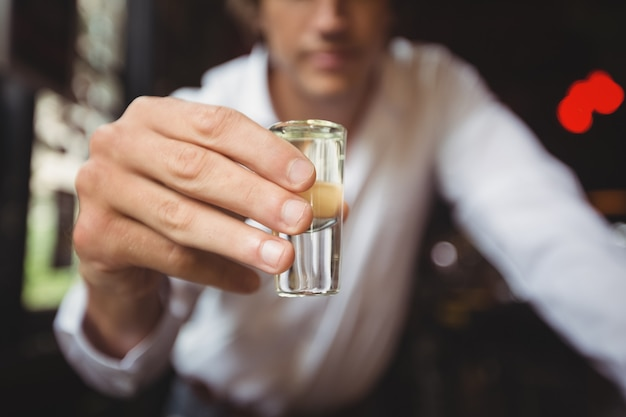alcohol: (258, 117, 347, 298)
